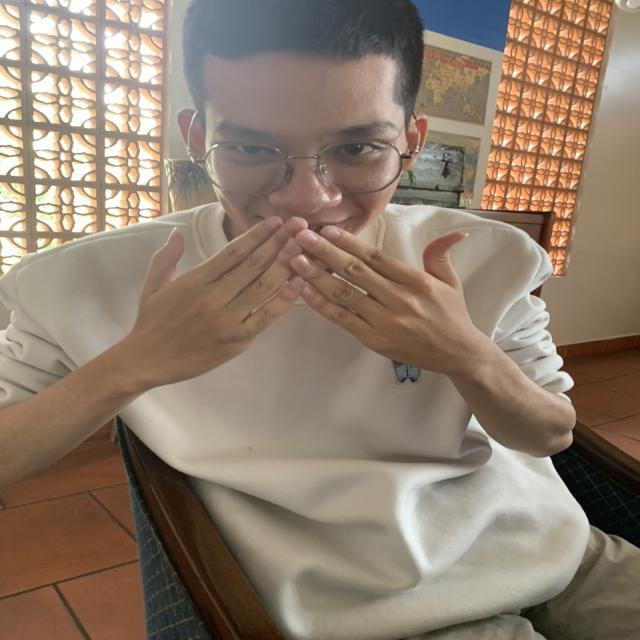thanks: (139, 202, 485, 425)
